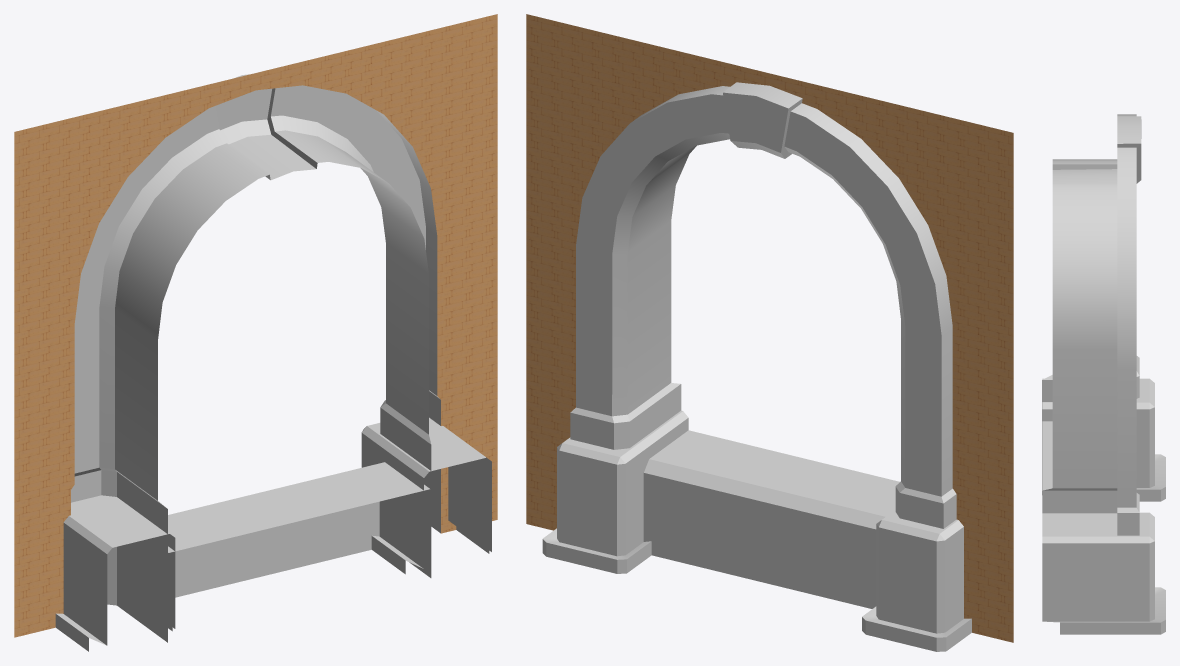
The model's file is Arc_Wall_12x12.fbx.
The picture shows the model from 3 angles, left to right: view 1: azimuth 30°, elevation 25°; view 2: azimuth 150°, elevation 25°; view 3: azimuth 270°, elevation 25°; orthographic projection. The views are drawn at different scales.
Visible parts, largest first — view 1: Arc_Wall_12x12; view 2: Arc_Wall_12x12; view 3: Arc_Wall_12x12.
Part boxes in pixels (bbox=[...]): Arc_Wall_12x12: bbox=[14, 14, 497, 651]; Arc_Wall_12x12: bbox=[526, 14, 1013, 651]; Arc_Wall_12x12: bbox=[1042, 114, 1165, 634].
Size of the model in its own units: 1200 by 1200 by 310.
